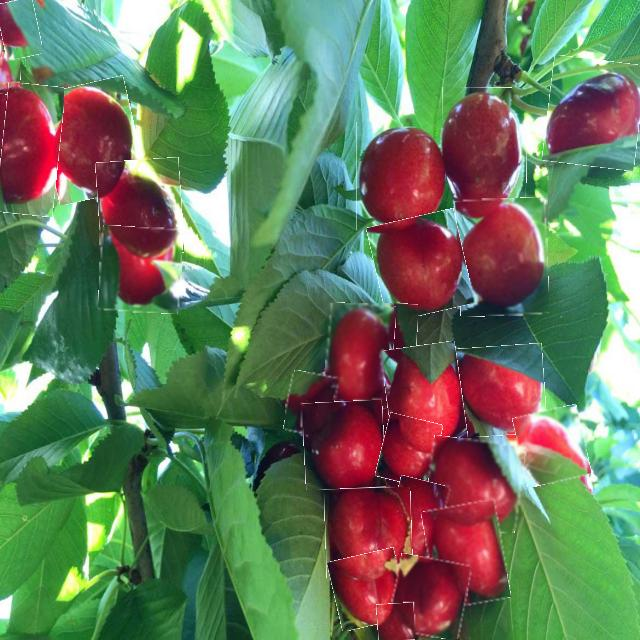cherry: (41, 80, 143, 201), (440, 88, 527, 222), (457, 198, 548, 316), (545, 57, 640, 168), (371, 213, 470, 318), (356, 122, 445, 230), (426, 438, 524, 531), (384, 344, 465, 452), (425, 502, 507, 607), (96, 159, 182, 256), (0, 83, 61, 216), (458, 345, 546, 436), (326, 488, 412, 581), (303, 400, 385, 489), (325, 303, 394, 408), (99, 227, 182, 313), (391, 556, 468, 638), (330, 551, 406, 628), (516, 407, 587, 484), (386, 478, 445, 567), (378, 415, 440, 486), (286, 372, 336, 436), (0, 0, 39, 58), (383, 304, 418, 362), (376, 602, 414, 640), (0, 52, 20, 95)
